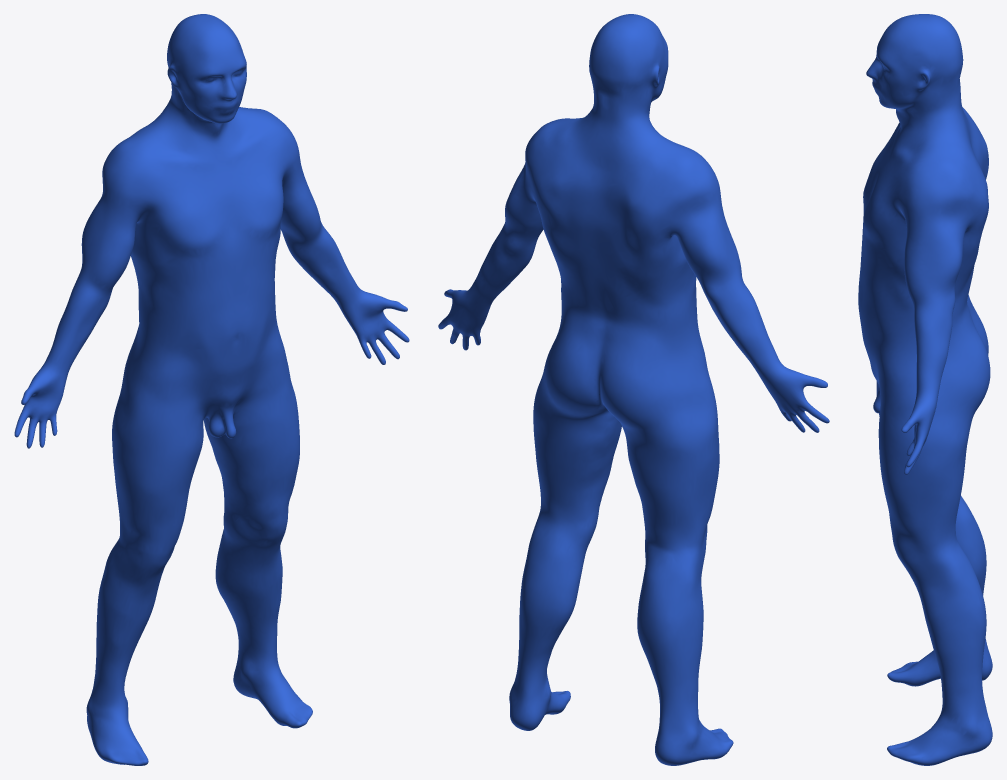
File: body.glb
3 renders of one model, left to right at view 1: azimuth 30°, elevation 25°; view 2: azimuth 150°, elevation 25°; view 3: azimuth 270°, elevation 25°, orthographic. The views are drawn at different scales.
Visible parts, largest first — view 1: VH_M_skin; view 2: VH_M_skin; view 3: VH_M_skin.
Boxes of the visible parts, box(x1,y1,x2,y2) form: VH_M_skin: box(14, 14, 409, 765); VH_M_skin: box(438, 14, 829, 765); VH_M_skin: box(858, 14, 992, 765).
Size of the model in its own units: 1.05 by 1.83 by 0.3162.
